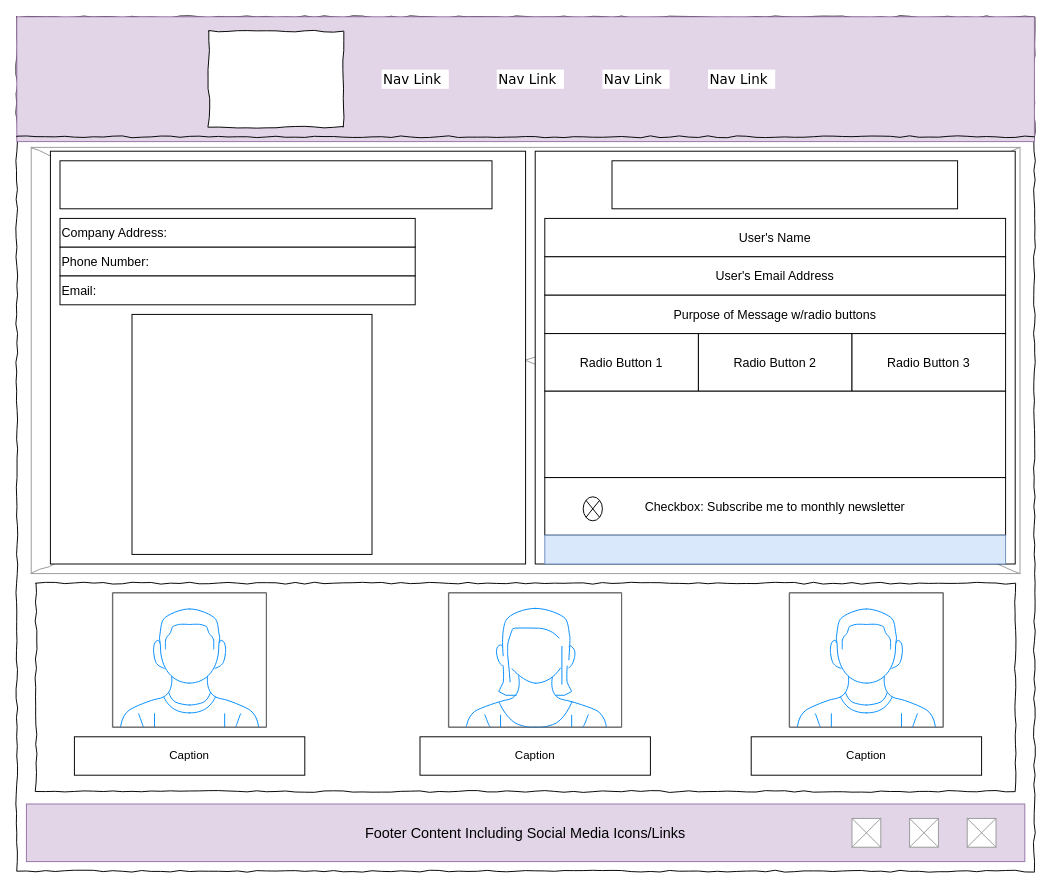
Some shapes in this 1051 by 888 pixel diagram are drawn without their labels. Each missing label, with the centre of its shape:
"Body of Message" goes at pixel 775 434.
"Contact Us" goes at pixel 275 184.
"Embedded Map" goes at pixel 251 433.
"Form" goes at pixel 784 184.
"LOGO" goes at pixel 275 78.
"Submit" goes at pixel 775 549.
